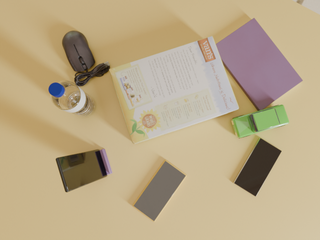book: (216, 18, 303, 111)
bottle: (49, 81, 95, 117)
box: (109, 36, 239, 144)
mouse: (62, 31, 110, 86)
phone: (133, 160, 187, 222), (234, 138, 282, 196), (56, 150, 107, 192)
toy_car: (231, 105, 289, 138)
